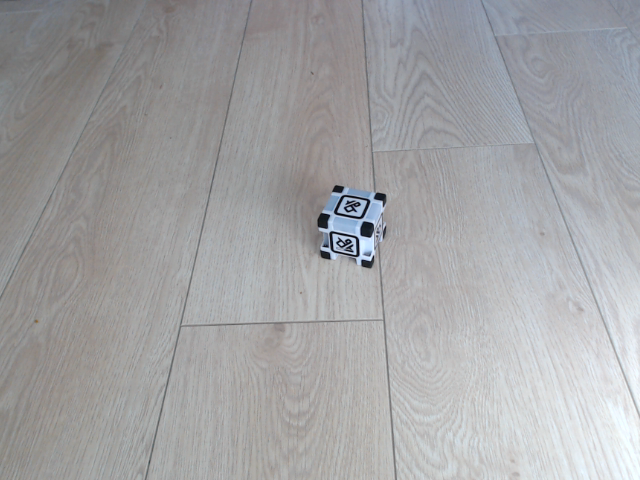block: (314, 182, 394, 272)
